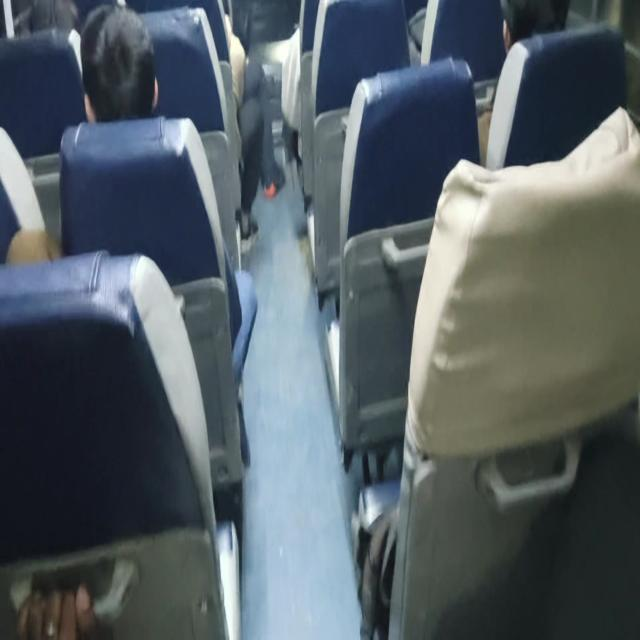person: (85, 10, 165, 112), (11, 0, 73, 36)
